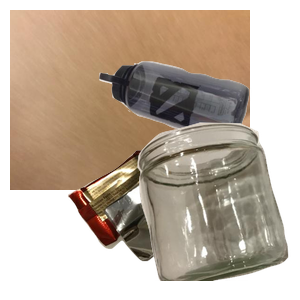cardboard: (10, 10, 250, 190)
glass: (135, 120, 300, 300)
plastic: (97, 59, 300, 197)
trash: (65, 148, 258, 300)
